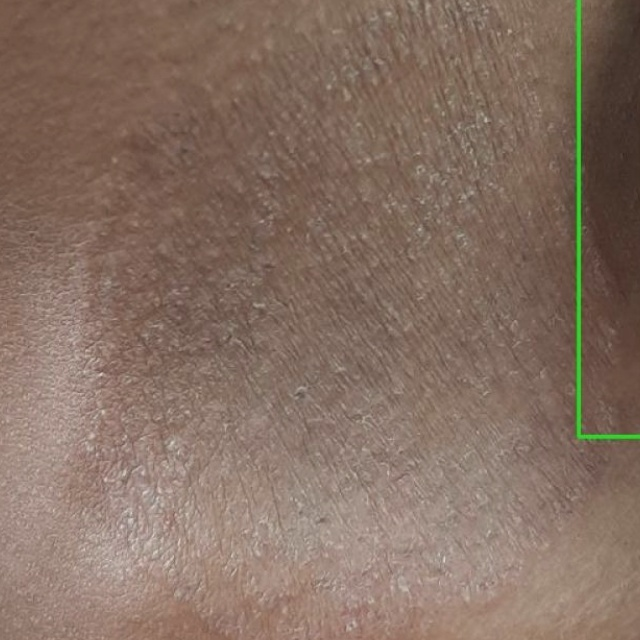Tinea Corporis: (579, 0, 639, 436)
